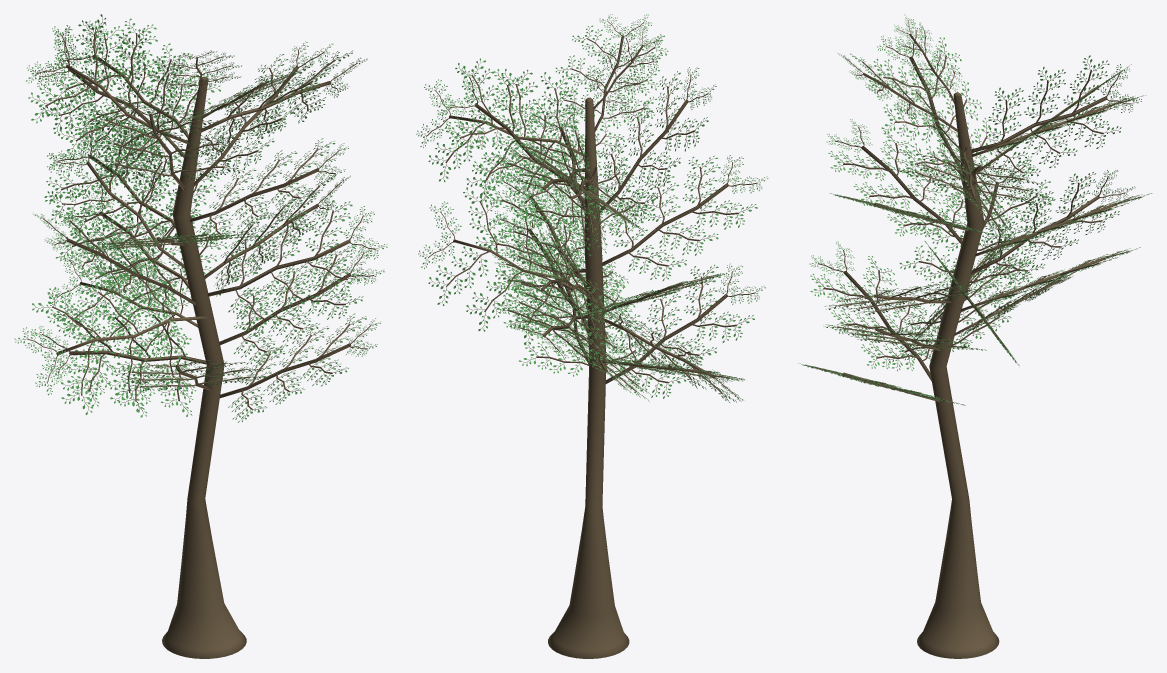
The model's file is tree.dae.
The picture shows the model from 3 angles, left to right: view 1: azimuth 30°, elevation 25°; view 2: azimuth 150°, elevation 25°; view 3: azimuth 270°, elevation 25°; orthographic projection. The views are drawn at different scales.
Visible parts, largest first — view 1: Cylinder; view 2: Cylinder; view 3: Cylinder.
Part boxes in pixels (x1,y1,x2,y2): Cylinder: [14, 14, 387, 658]; Cylinder: [416, 14, 768, 658]; Cylinder: [798, 14, 1152, 658].
Size of the model in its own units: 2.21 by 2.08 by 3.9.
